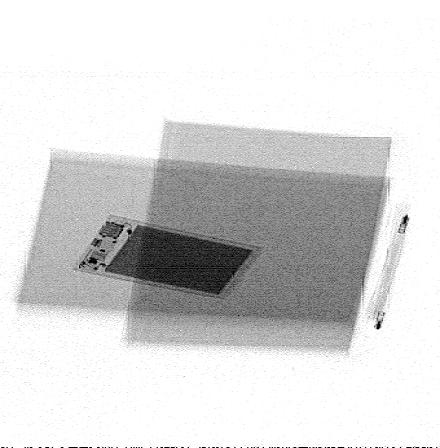Powerbank: (71, 214, 266, 300)
